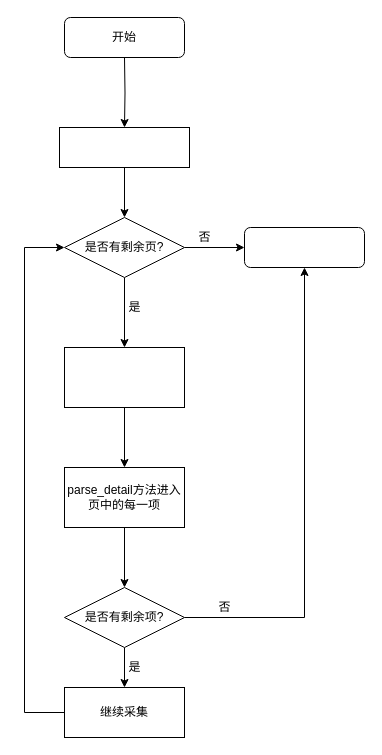
The diagram is 382 pixels wide and 755 high, and some of its shapes have lost their labels. The centre of each missing label's shape, as x and y in pixels:
"parse方法进入页" belongs at point (124, 377).
"start_requests方法" belongs at point (124, 147).
"结束" belongs at point (304, 247).
